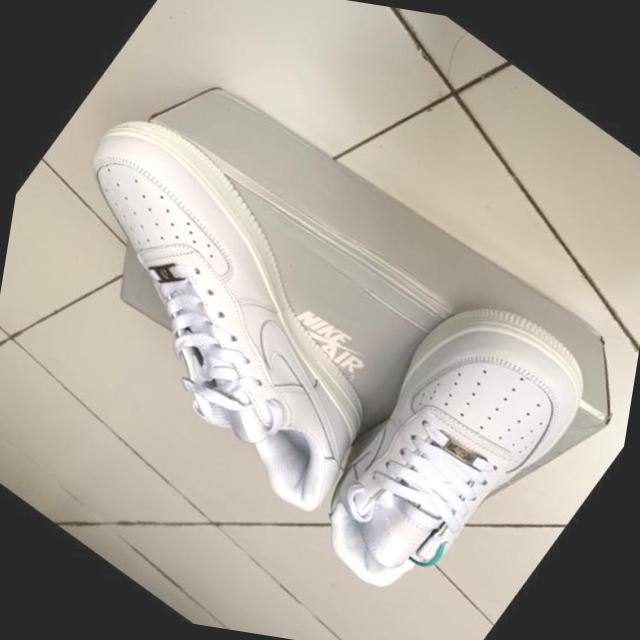nike_fake_airforce: (0, 72, 493, 546), (273, 254, 621, 640)
